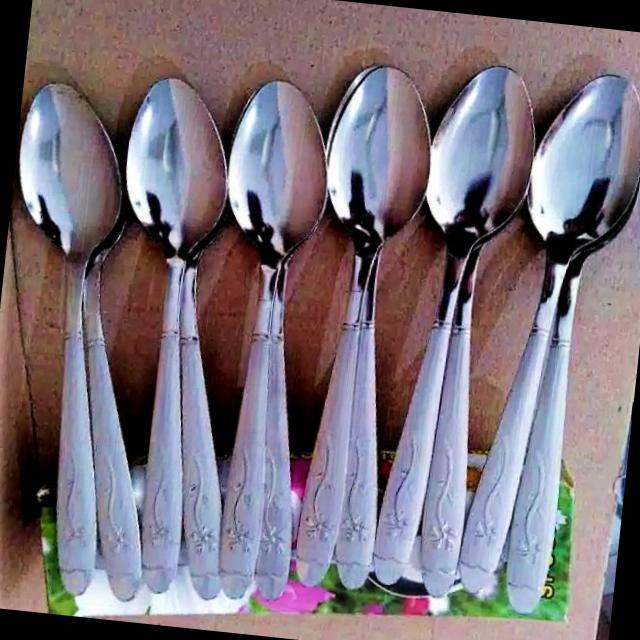spoon: (0, 66, 191, 594)
